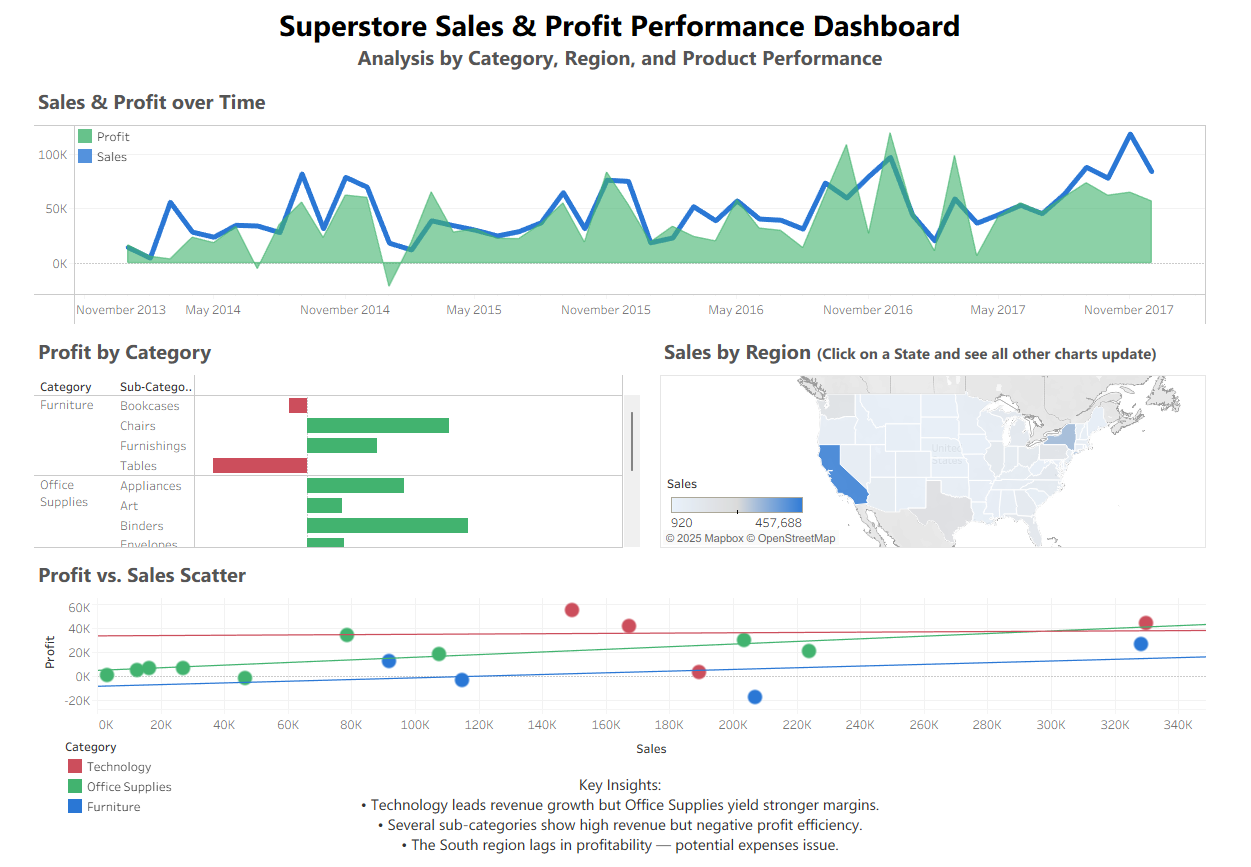

This screenshot's page, from the dashboard's own definition file:
{"tool":"tableau","page":{"name":"Dashboard 1","canvas":[1200,900],"ordinal":0},"visuals":[{"type":"text","box":[10,10,1180,74]},{"type":"worksheet","title":"Sales & Profit over Time","mark":"Automatic","rows":["Sales","Profit"],"cols":["Order Date"],"box":[10,88,1180,250]},{"type":"legend","title":"Sales & Profit over Time","param":"[federated.08t3e6906j6bsi11bzrh51j3rb4c].[:Measure Names]","box":[55,135,140,58]},{"type":"worksheet","title":"Profit by Category","mark":"Automatic","rows":["Category","Sub-Category"],"cols":["Profit"],"box":[10,338,620,223.2]},{"type":"worksheet","title":"Sales by Region","mark":"Multipolygon","box":[630,338,560,223.2]},{"type":"legend","title":"Sales by Region","param":"[federated.08t3e6906j6bsi11bzrh51j3rb4c].[sum:Sales:qk]","box":[647,484,140,76]},{"type":"worksheet","title":"Profit vs. Sales Scatter","mark":"Circle","rows":["Profit"],"cols":["Sales"],"box":[10,561.2,1180,216]},{"type":"legend","title":"Profit vs. Sales Scatter","param":"[federated.08t3e6906j6bsi11bzrh51j3rb4c].[none:Category:nk]","box":[45,747,140,78]},{"type":"text","box":[10,777.3,1180,91.6]}]}

Visuals, with their boxes on the page's 1200x900 design canvas (x1, y1, x2, y2). These are canvas units, not pixel positions in the 1251x867 screenshot, which may show the page scaled, cropped or inside an application window:
text: (left=10, top=10, right=1190, bottom=84)
"Sales & Profit over Time" worksheet: (left=10, top=88, right=1190, bottom=338)
"Sales & Profit over Time" legend: (left=55, top=135, right=195, bottom=193)
"Profit by Category" worksheet: (left=10, top=338, right=630, bottom=561)
"Sales by Region" worksheet (Multipolygon marks): (left=630, top=338, right=1190, bottom=561)
"Sales by Region" legend: (left=647, top=484, right=787, bottom=560)
"Profit vs. Sales Scatter" worksheet (Circle marks): (left=10, top=561, right=1190, bottom=777)
"Profit vs. Sales Scatter" legend: (left=45, top=747, right=185, bottom=825)
text: (left=10, top=777, right=1190, bottom=869)
